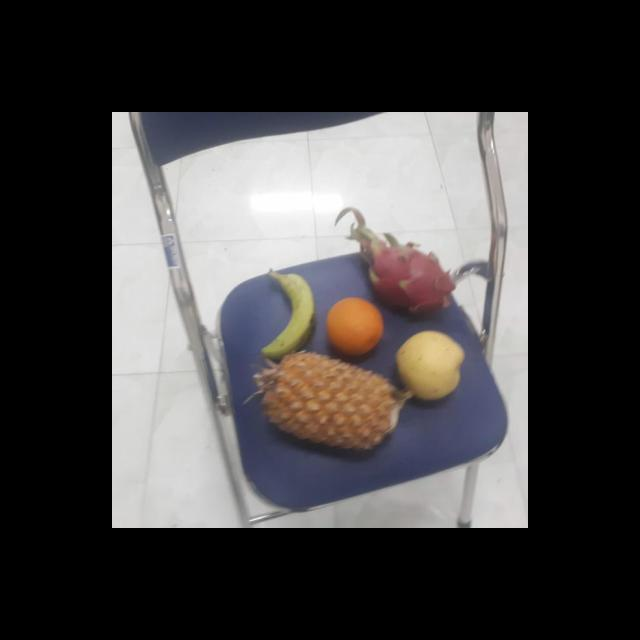banana: (266, 269, 318, 358)
orange: (322, 297, 390, 358)
pear: (391, 331, 466, 401)
pineapple: (248, 352, 402, 456)
pitaya: (362, 243, 450, 320)
